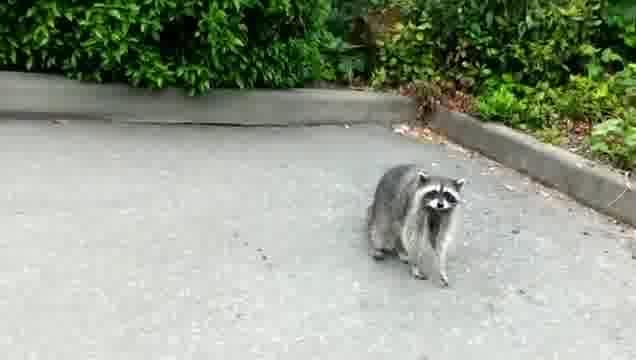raccoon: (364, 158, 471, 295)
